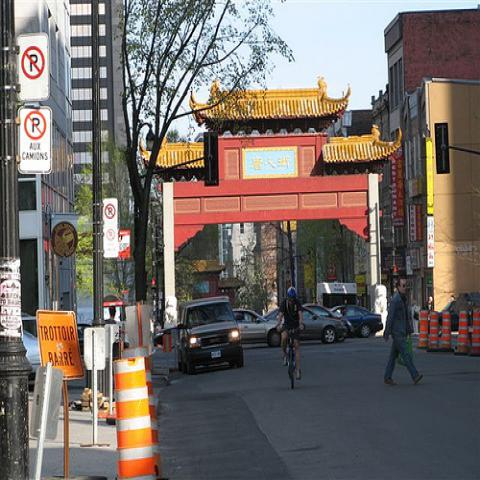car: (176, 294, 246, 376), (264, 305, 346, 343), (233, 308, 281, 346), (328, 304, 382, 336), (303, 303, 348, 341), (438, 296, 479, 332), (22, 327, 42, 384)
truck: (316, 282, 358, 310)
